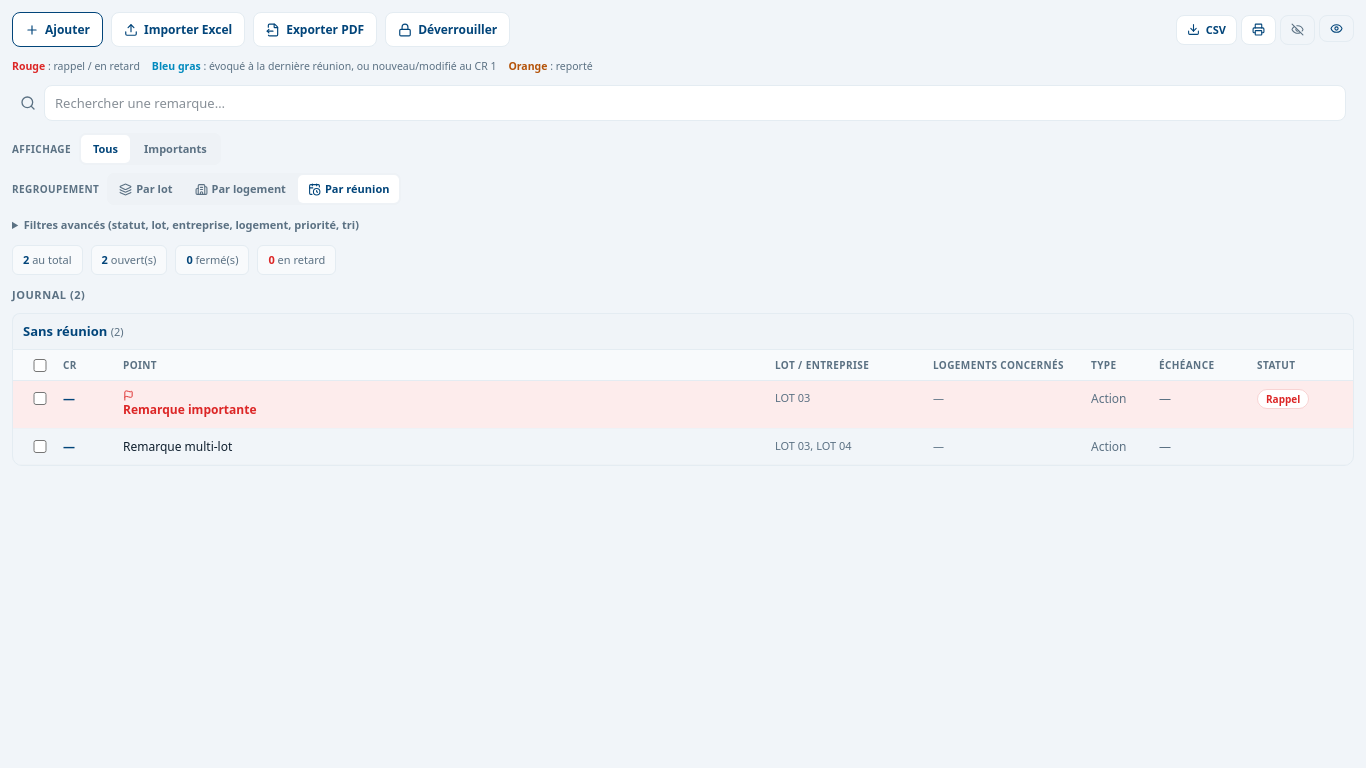
Test case: sprint — Regroupement : Par lot / Par logement / Par réunion, défaut Par réunion › une remarque multi-lots apparaît sous CHAQUE en-tête de lot (LOT 03 et LOT 04)
The image size is (1366, 768).
What coordinates should you click on to do the following:
click the button "Par lot"
I would click on:
 (146, 189)
Its box is left=109, top=175, right=182, bottom=203.
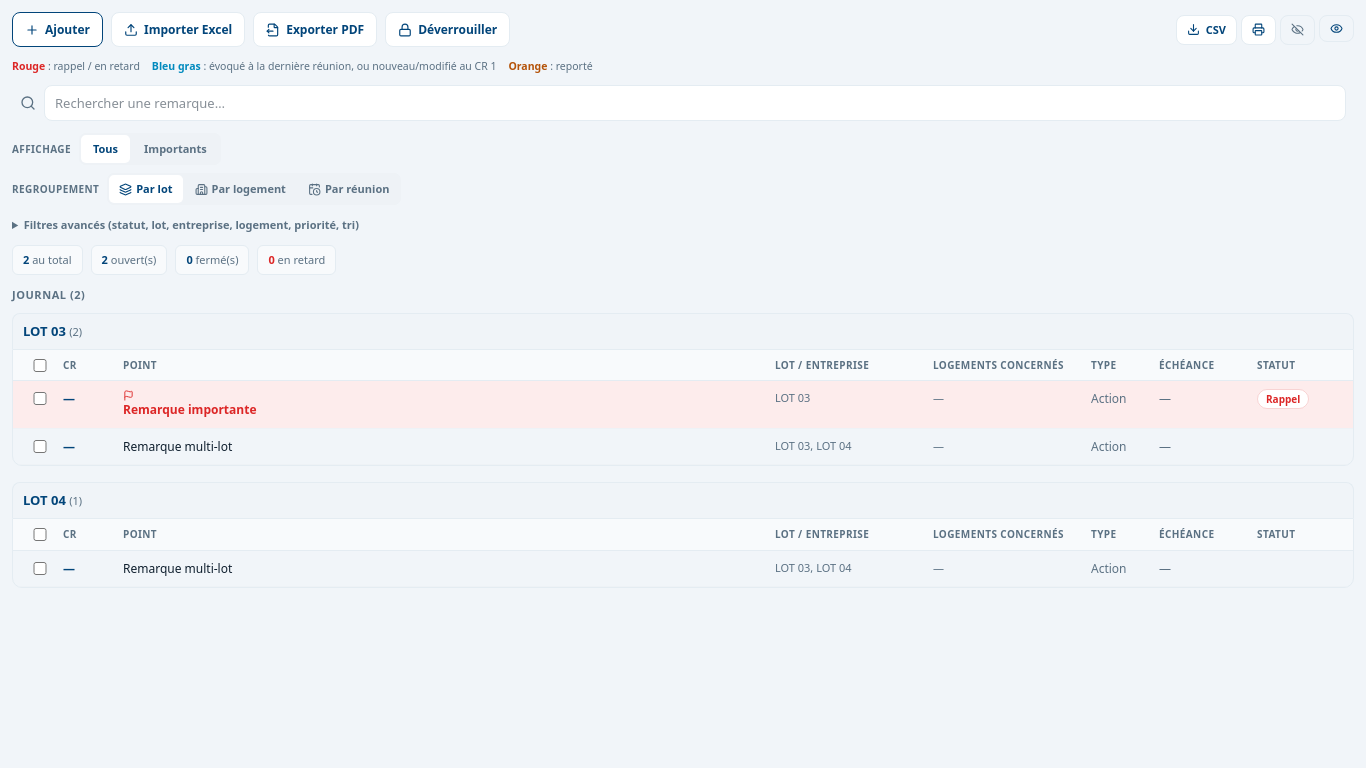
Now the text "Remarque multi-lot" is shown 2 times, box left=123, top=438, right=232, bottom=455; left=123, top=560, right=232, bottom=577
